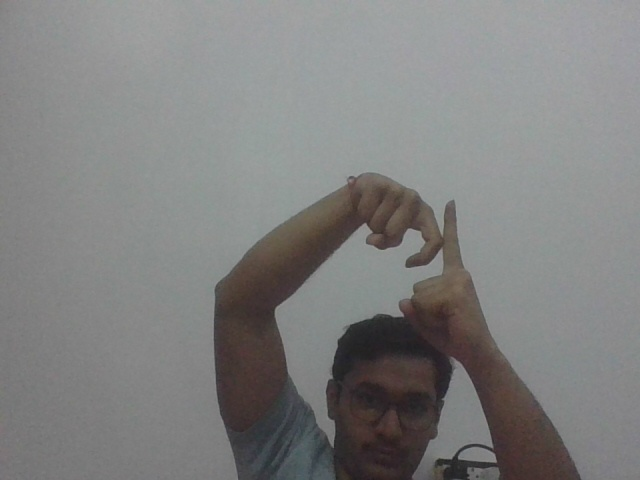K: (354, 161, 479, 311)
